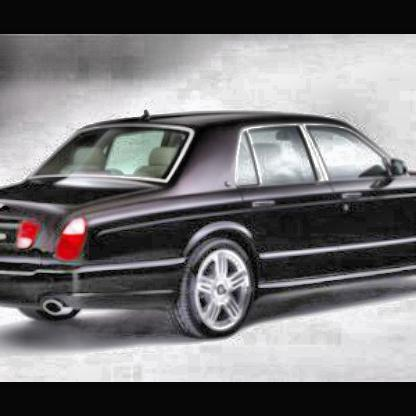Bentley Arnage Sedan 2009: (4, 116, 416, 337)
